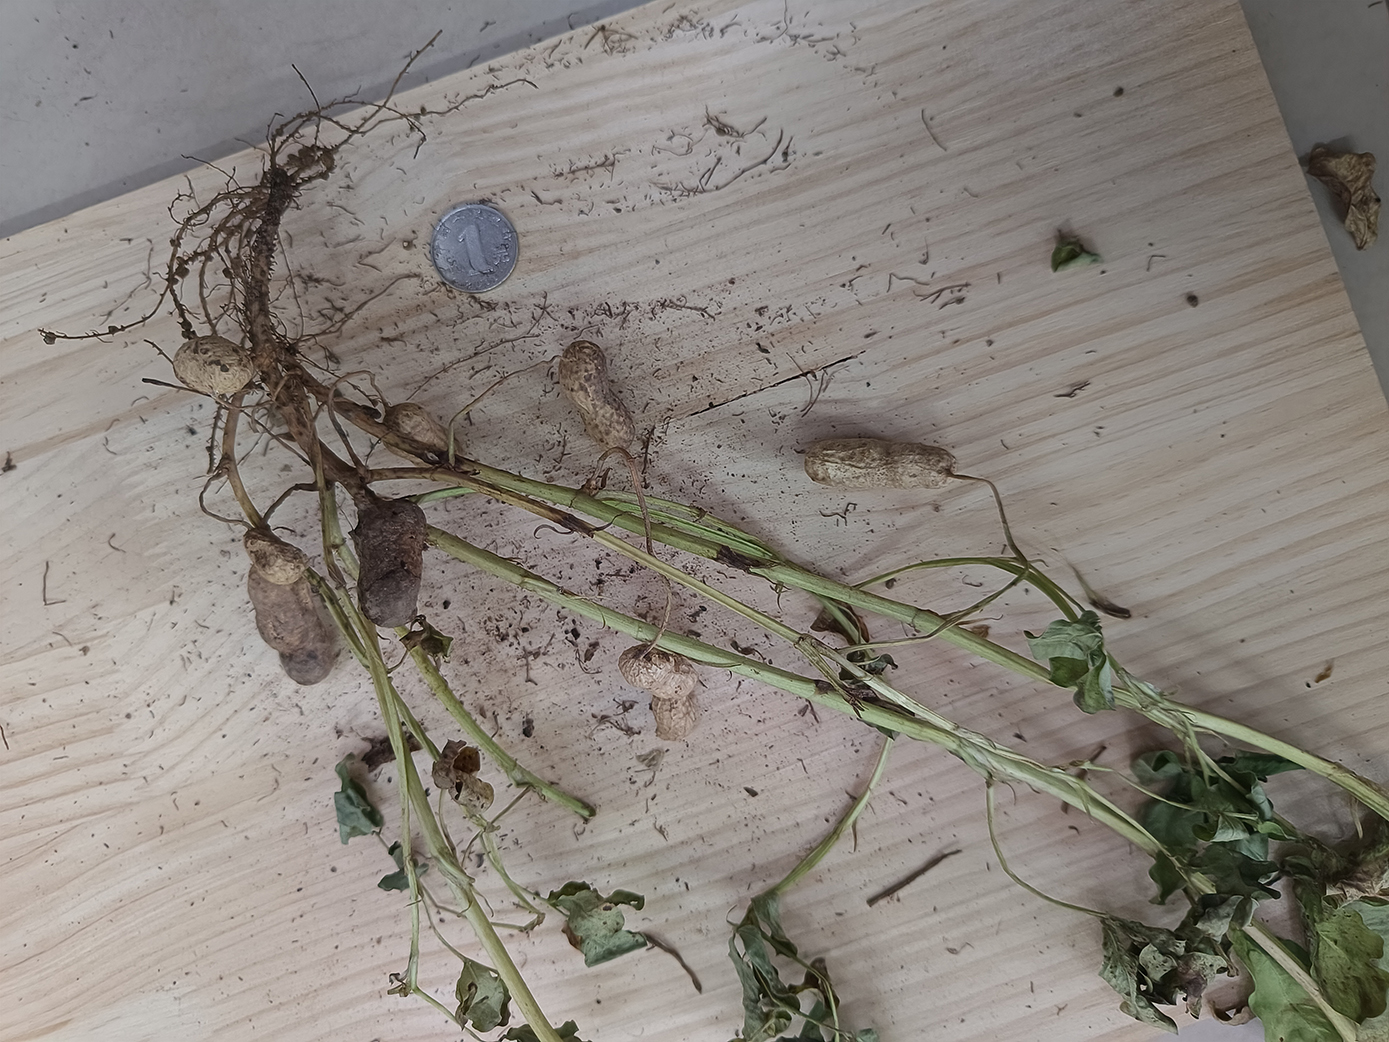h: (805, 435, 957, 491), (559, 339, 635, 451), (618, 642, 698, 741), (382, 401, 464, 470), (173, 336, 253, 395), (243, 526, 308, 586)
l: (247, 571, 335, 686), (357, 501, 425, 627)
